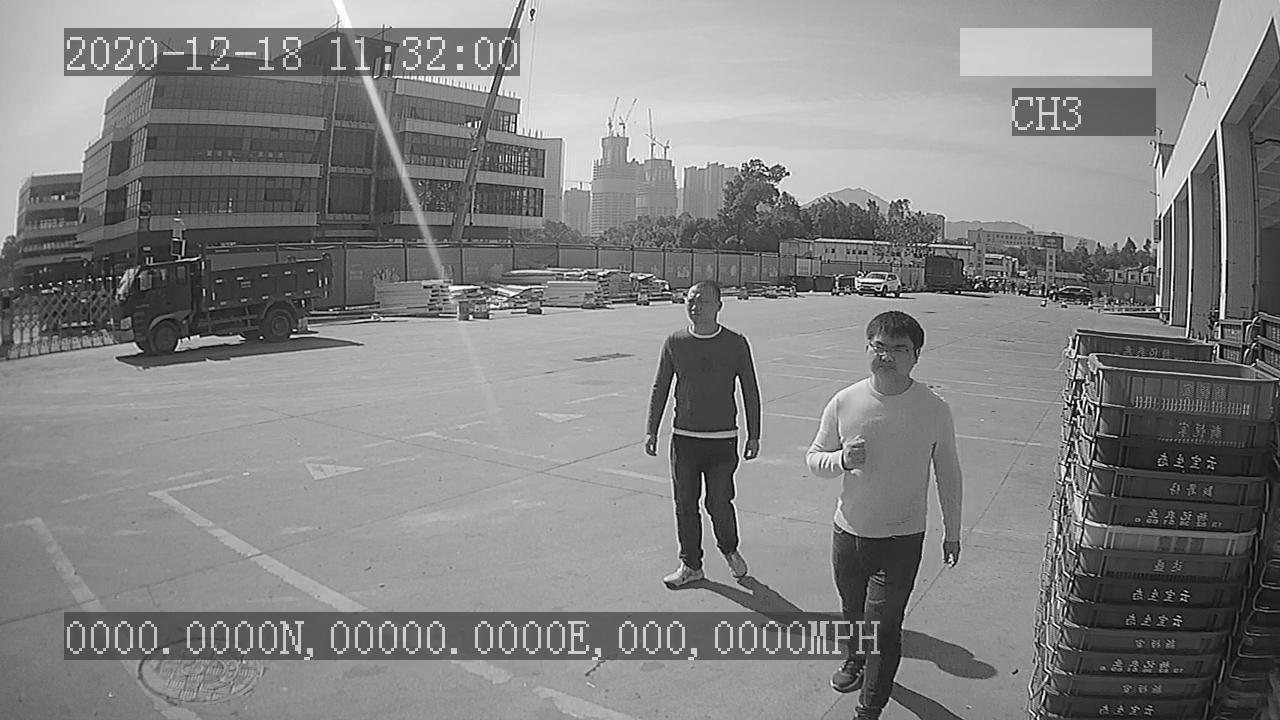person: (646, 274, 765, 592)
